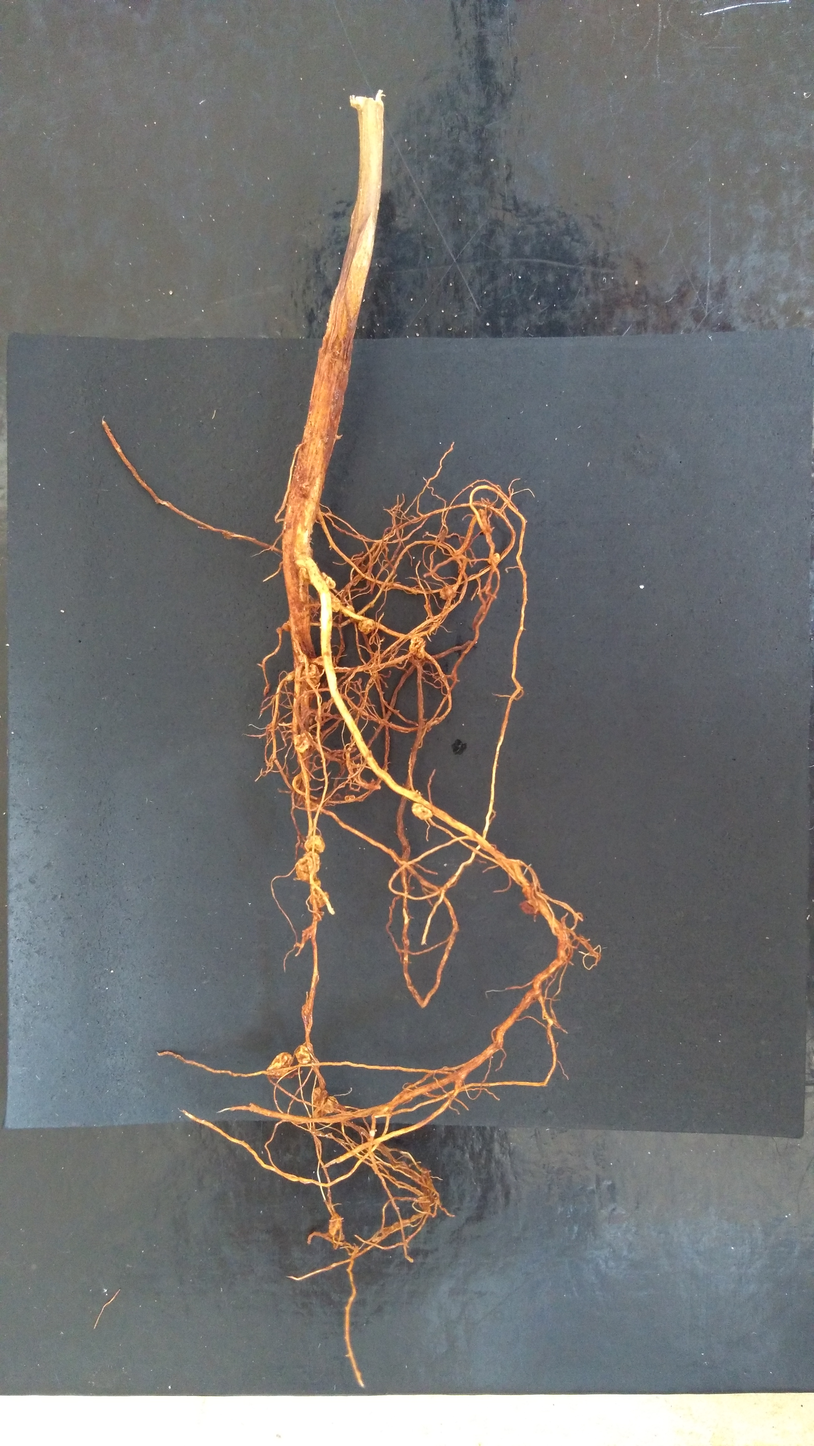nodule: (294, 850, 322, 884), (264, 1048, 295, 1072), (409, 800, 434, 822), (292, 731, 314, 754), (307, 889, 332, 909), (303, 833, 326, 854), (408, 636, 428, 660), (516, 898, 542, 916), (301, 663, 321, 686), (292, 1043, 311, 1067), (327, 1212, 346, 1236), (310, 1085, 329, 1107), (321, 1094, 341, 1114), (326, 590, 343, 613), (320, 570, 337, 591), (356, 618, 377, 635), (296, 566, 313, 585), (439, 585, 458, 601), (486, 552, 501, 566), (342, 604, 355, 619), (312, 655, 324, 667), (221, 530, 233, 540), (282, 622, 291, 632), (275, 626, 282, 634), (344, 795, 355, 800), (368, 601, 375, 608)
